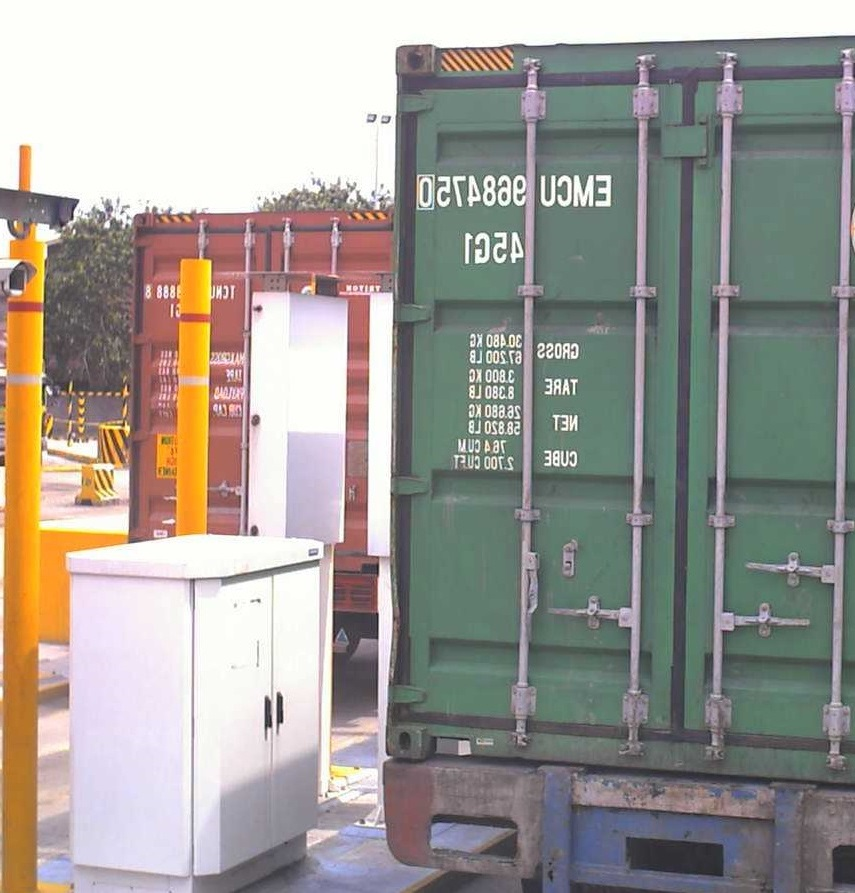container_door: (387, 39, 855, 777)
